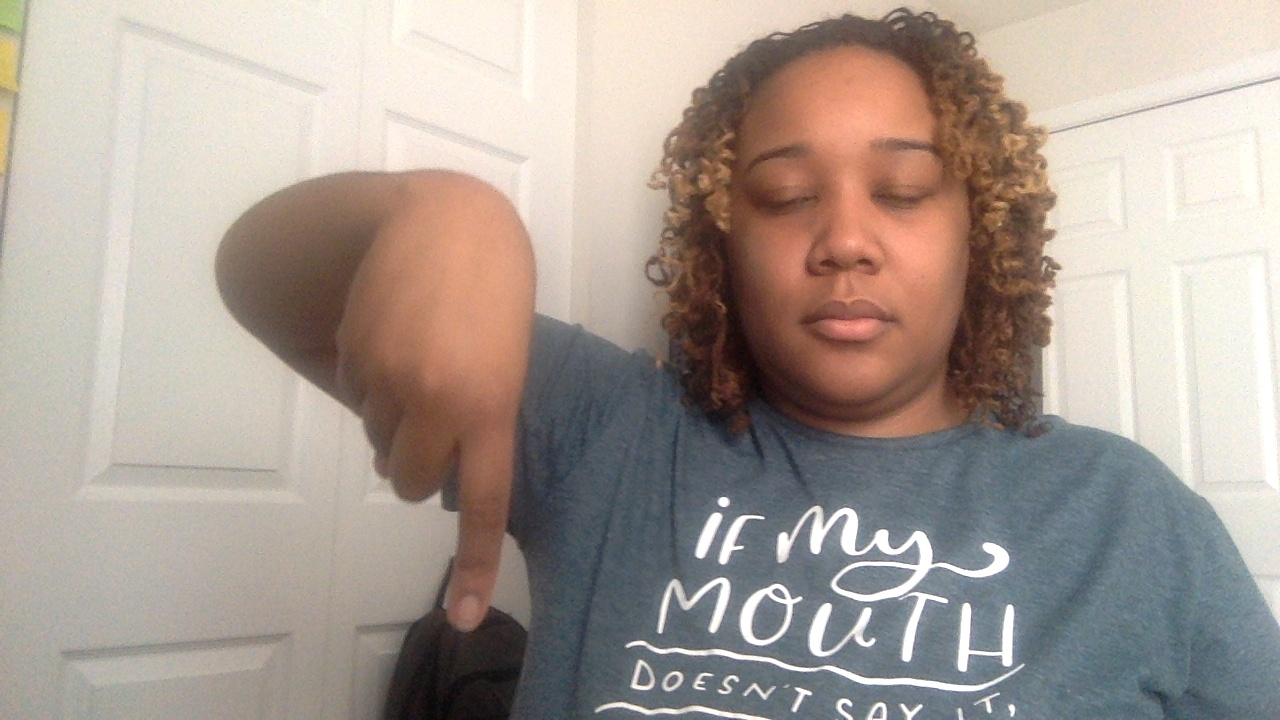down: (329, 146, 552, 641)
